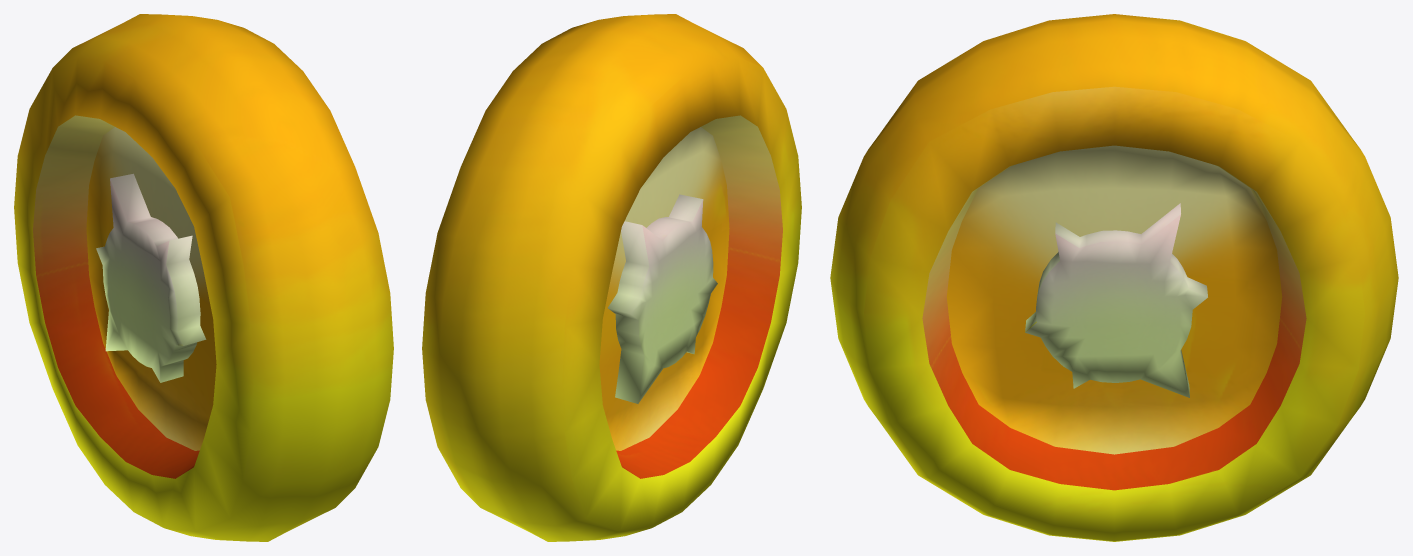
Rendered from Coin.fbx.
3 renders of one model, left to right at view 1: azimuth 30°, elevation 25°; view 2: azimuth 150°, elevation 25°; view 3: azimuth 270°, elevation 25°, orthographic. The views are drawn at different scales.
Parts seen in each view (by area): view 1: Coin, Meteor; view 2: Coin, Meteor; view 3: Coin, Meteor.
Boxes of the visible parts, <box> form: Coin: <box>14,14,393,541</box>; Meteor: <box>96,173,206,382</box>; Coin: <box>422,14,801,541</box>; Meteor: <box>608,194,717,403</box>; Coin: <box>830,14,1398,541</box>; Meteor: <box>1025,203,1207,397</box>.
Bounding box in the file's own units: 20.29 × 60 × 60.
